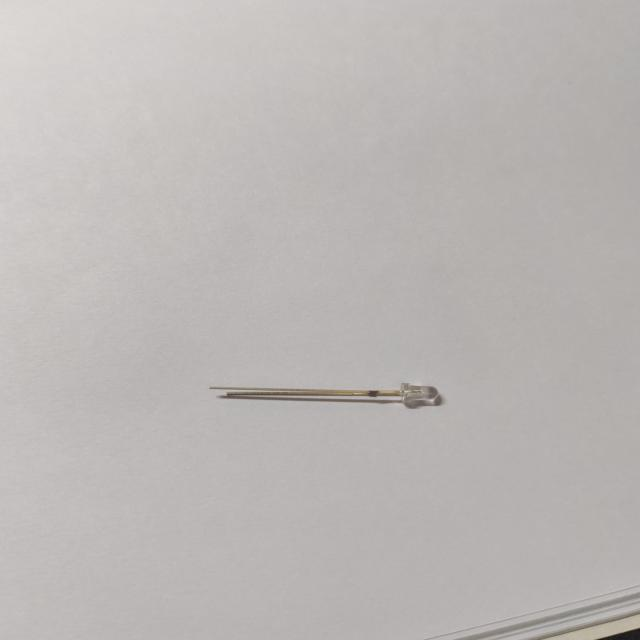led: (204, 371, 454, 412)
